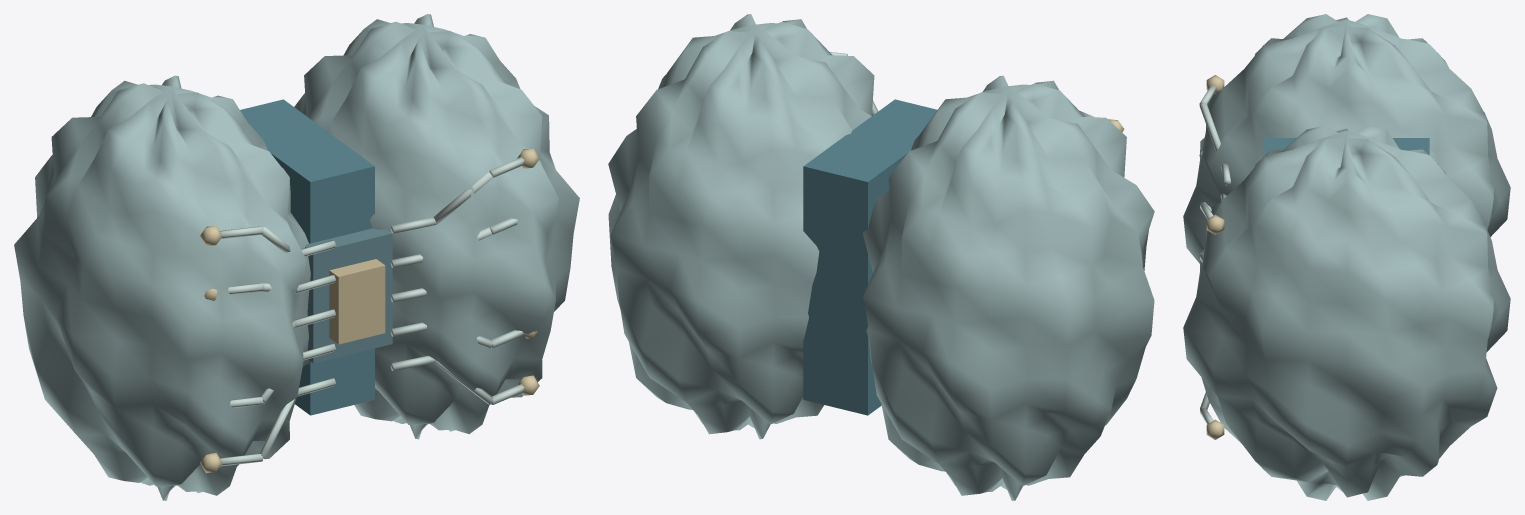
Rendered from ART-20.glb.
The picture shows the model from 3 angles, left to right: view 1: azimuth 30°, elevation 25°; view 2: azimuth 150°, elevation 25°; view 3: azimuth 270°, elevation 25°; orthographic projection. The views are drawn at different scales.
Visible parts, largest first — view 1: world; view 2: world; view 3: world.
Boxes of the visible parts, x1,y1,x2,y2 form: world: (14,14,579,500); world: (608,14,1154,500); world: (1183,14,1510,500).
Bounding box in the file's own units: 2 × 1.55 × 1.26.
